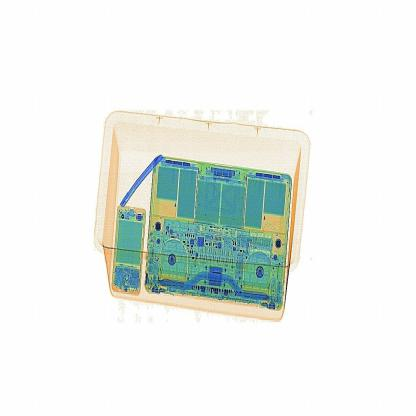pliers: (117, 144, 168, 214)
